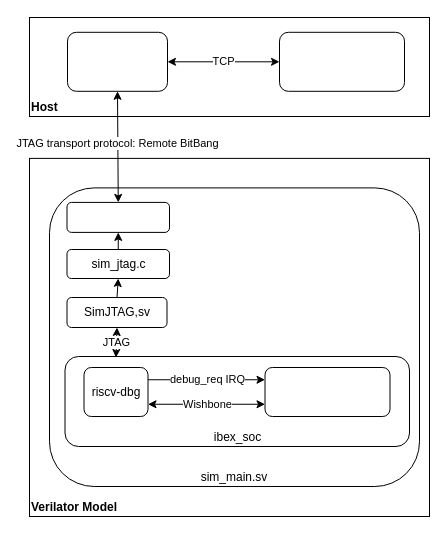
The diagram is 448 pixels wide and 534 high, and some of its shapes have lost their labels. The centre of each missing label's shape, as x and y in pixels:
"GDB" belongs at point 341,61.
"ibex_wb riscv" belongs at point 327,391.
"OpenOCD" belongs at point 117,61.
"remote_bitbang.c" belongs at point 118,216.
